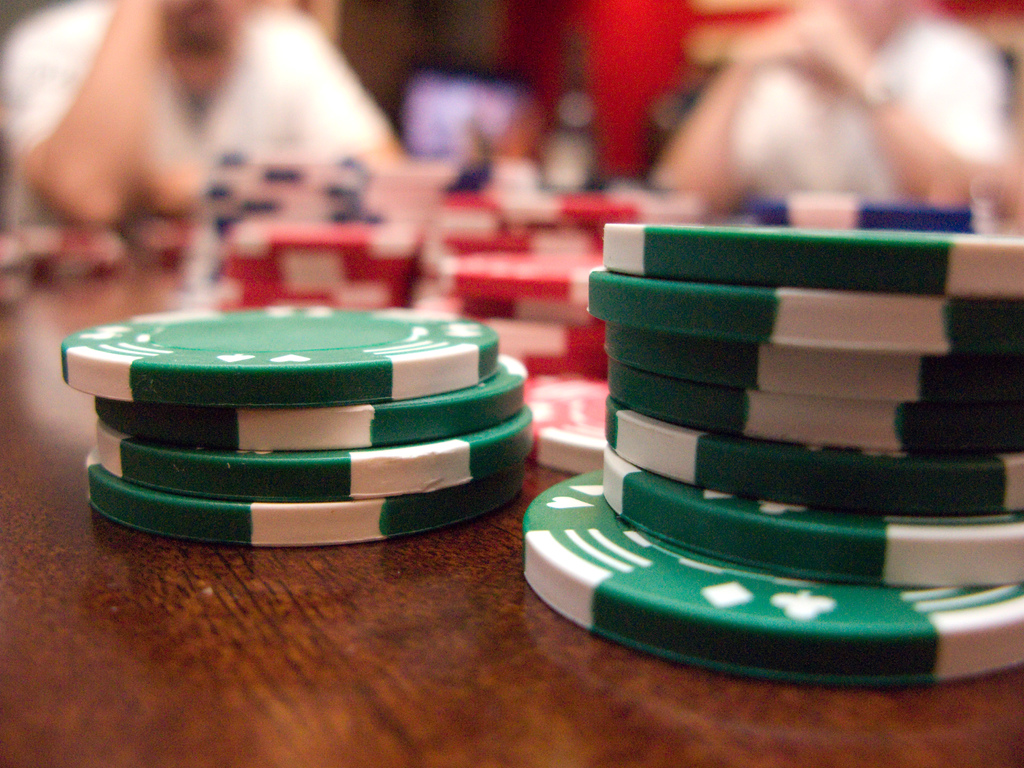person: (3, 0, 408, 312)
